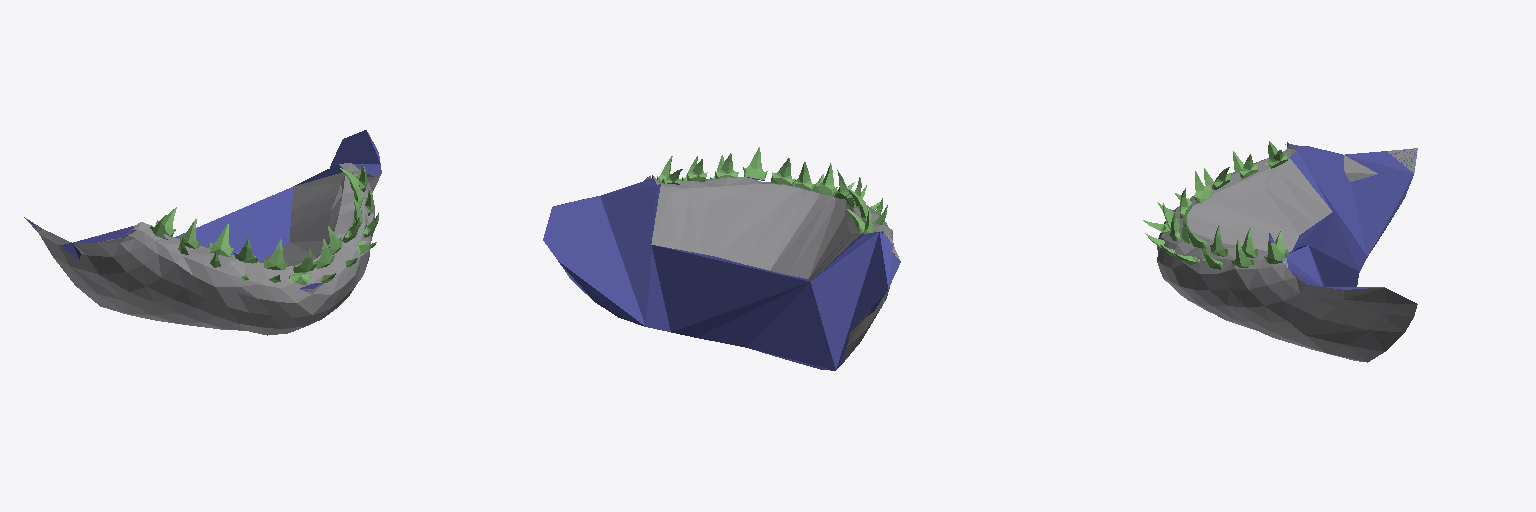
Rendered from BocaTiburon.obj.
3 views of the same model, side by side, from view 1: azimuth 30°, elevation 25°; view 2: azimuth 150°, elevation 25°; view 3: azimuth 270°, elevation 25° (orthographic).
Parts seen in each view (by area): view 1: Boca; view 2: Boca; view 3: Boca.
Part boxes in pixels (bbox=[...]): Boca: bbox=[24, 130, 381, 335]; Boca: bbox=[543, 147, 900, 370]; Boca: bbox=[1143, 141, 1417, 362].
Bounding box in the file's own units: 2.97 × 1.25 × 2.18.